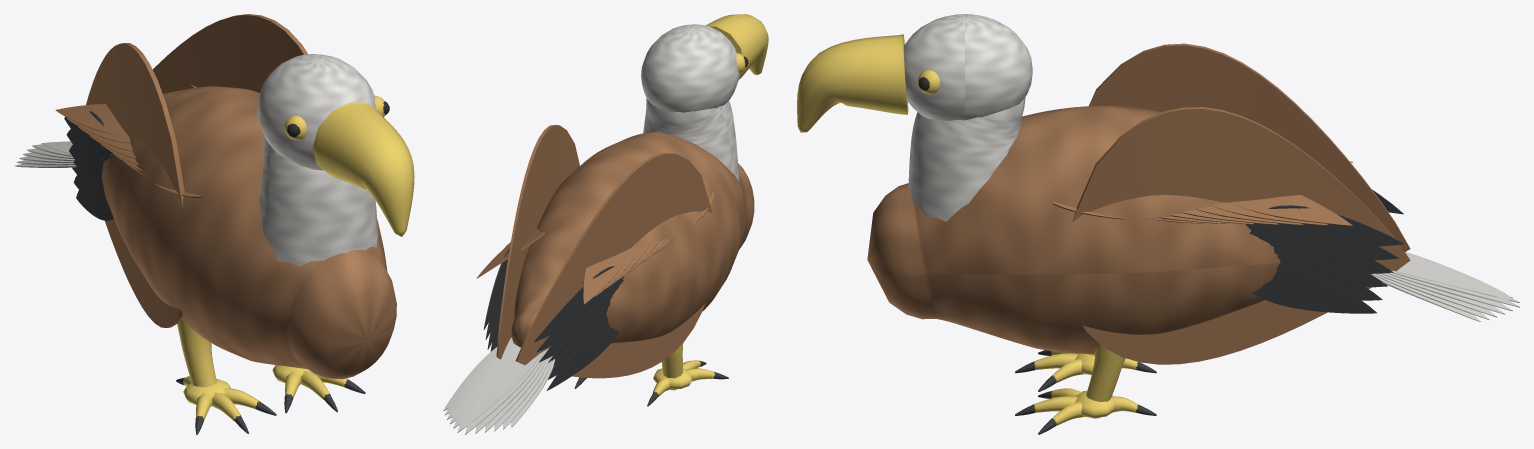
The model's file is eagle.glb.
The picture shows the model from 3 angles, left to right: view 1: azimuth 30°, elevation 25°; view 2: azimuth 150°, elevation 25°; view 3: azimuth 270°, elevation 25°; orthographic projection. The views are drawn at different scales.
Visible parts, largest first — view 1: bald-eagle; view 2: bald-eagle; view 3: bald-eagle.
Boxes of the visible parts, x1,y1,x2,y2 form: bald-eagle: [14, 14, 414, 434]; bald-eagle: [443, 14, 768, 434]; bald-eagle: [797, 14, 1519, 434].
Bounding box in the file's own units: 0.4271 × 0.8569 × 1.49.
5 materials, 3 textured.
